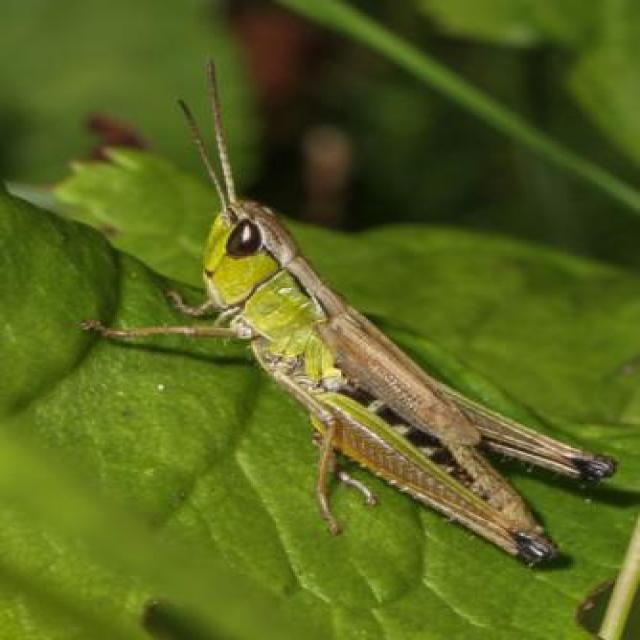antennae: (172, 94, 229, 210), (206, 64, 244, 197)
body: (202, 197, 533, 522)
insect: (86, 61, 614, 566)
legs: (267, 356, 341, 535), (319, 439, 378, 508), (86, 321, 254, 339), (169, 294, 220, 318)
wings: (311, 310, 537, 556)
